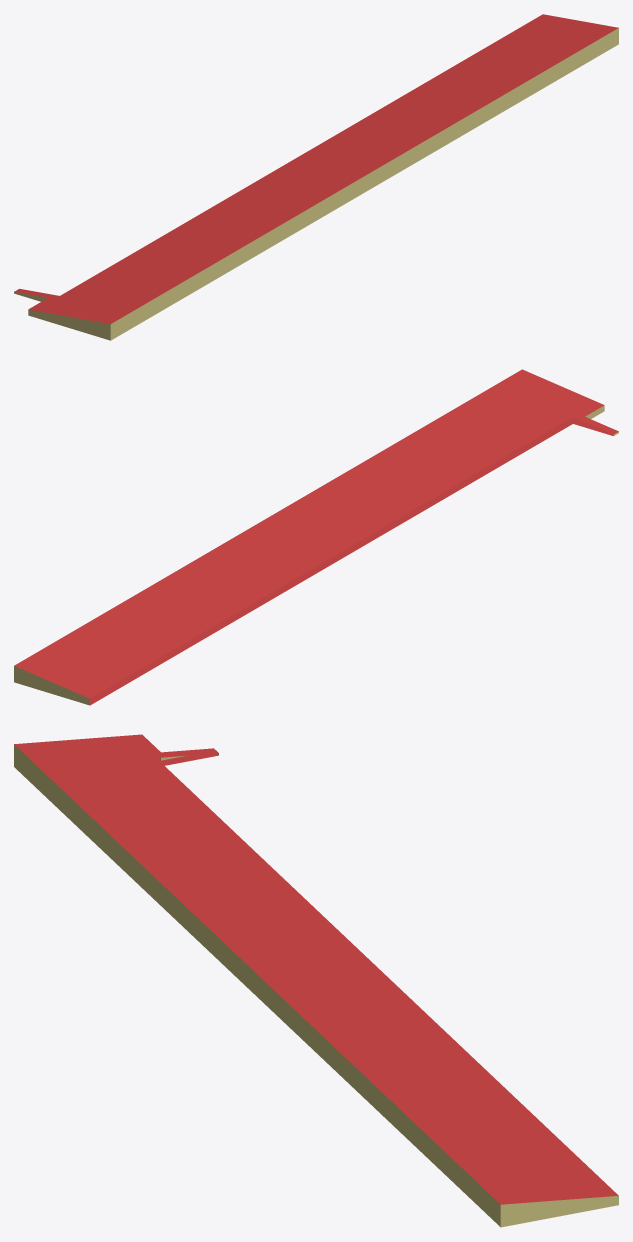
3 views of the same model, one above another, from view 1: azimuth 30°, elevation 25°; view 2: azimuth 210°, elevation 25°; view 3: azimuth 270°, elevation 25° (orthographic). The views are drawn at different scales.
Size of the model in its own units: 44.96 by 23.71 by 0.985.
